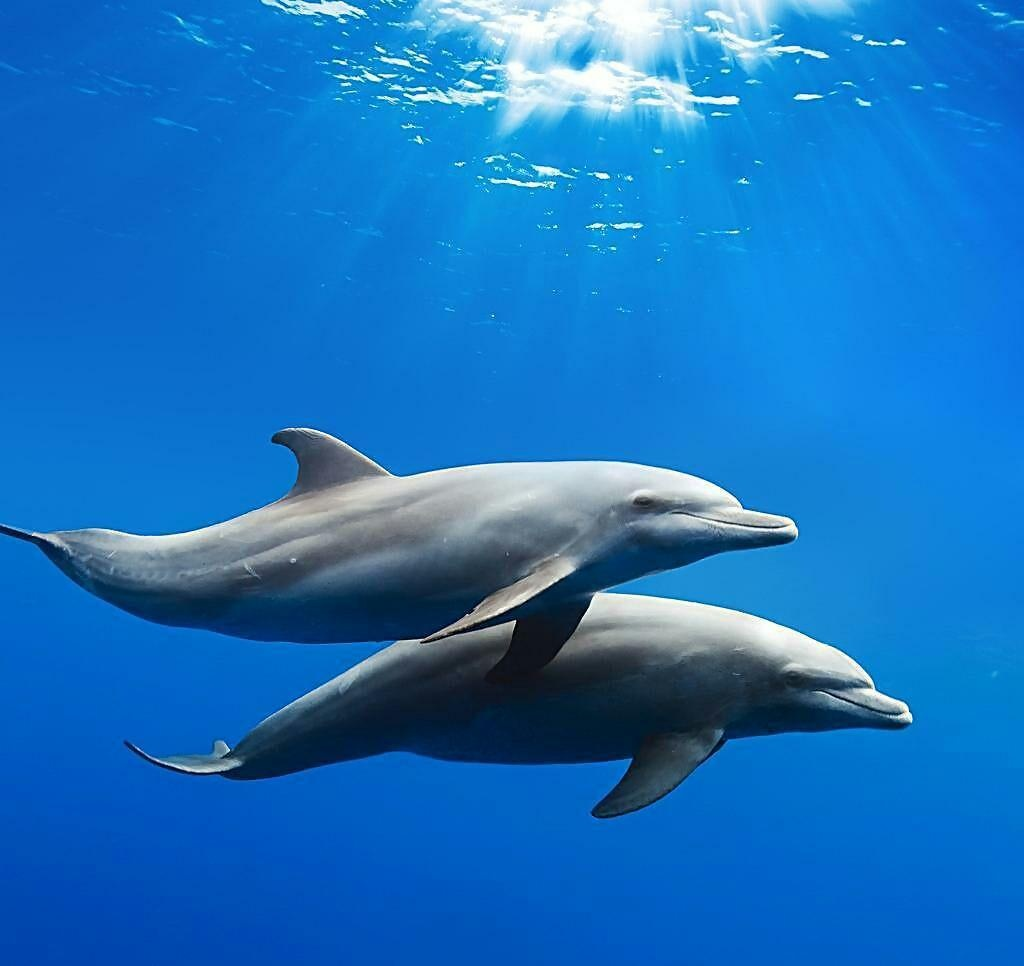fish: (5, 426, 800, 676), (110, 591, 921, 820)
